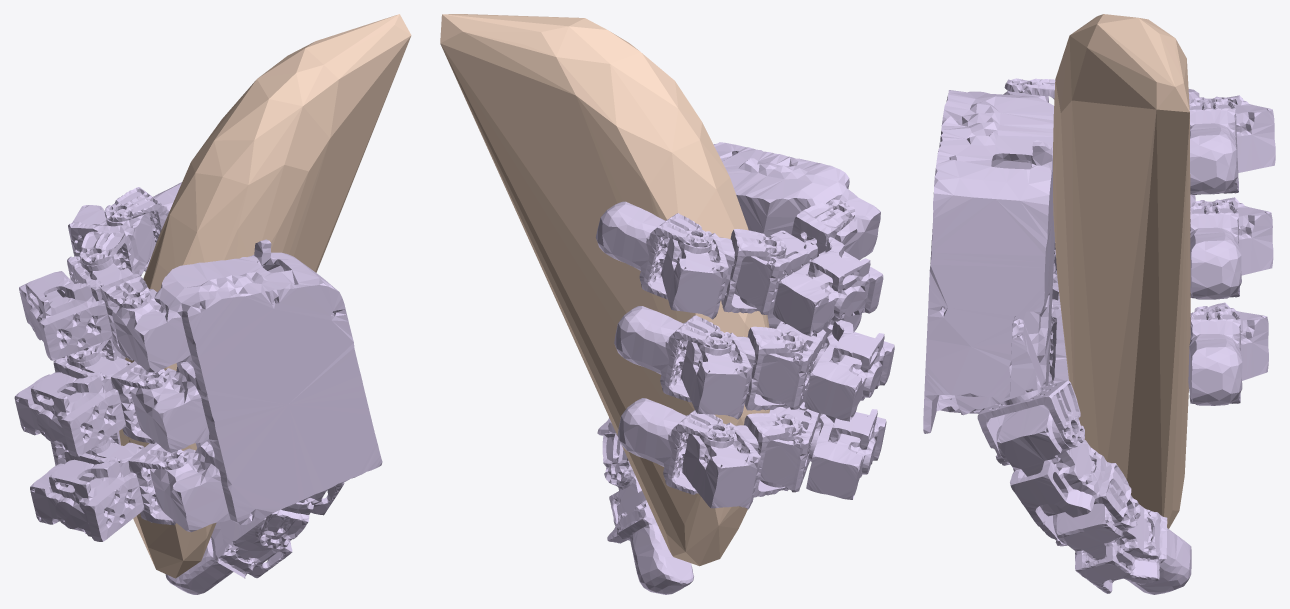
The model's file is e13f975015949c-closed.glb.
3 renders of one model, left to right at view 1: azimuth 30°, elevation 25°; view 2: azimuth 150°, elevation 25°; view 3: azimuth 270°, elevation 25°, orthographic. The views are drawn at different scales.
Parts seen in each view (by area): view 1: LEAP_hand, world; view 2: LEAP_hand, world; view 3: LEAP_hand, world.
Part boxes in pixels (x1,y1,x2,y2): LEAP_hand: [14, 182, 382, 594]; world: [119, 14, 411, 578]; LEAP_hand: [595, 142, 894, 594]; world: [440, 14, 769, 566]; LEAP_hand: [923, 78, 1275, 594]; world: [1053, 14, 1190, 528].
Bounding box in the file's own units: 0.2224 × 0.2794 × 0.1404.
